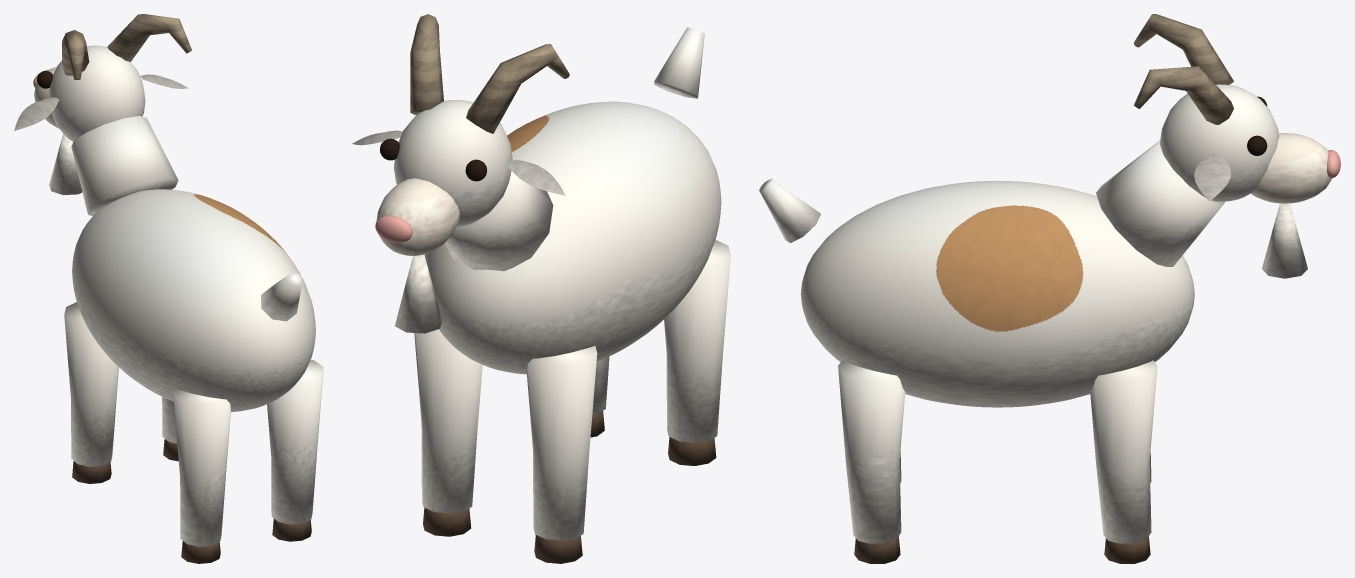
Rendered from goat.glb.
3 renders of one model, left to right at view 1: azimuth 30°, elevation 25°; view 2: azimuth 150°, elevation 25°; view 3: azimuth 270°, elevation 25°, orthographic. The views are drawn at different scales.
Visible parts, largest first — view 1: Body, Head; view 2: Body, Head; view 3: Body, Head.
Part boxes in pixels (x1,y1,x2,y2): Body: (64, 189, 323, 563); Head: (14, 14, 191, 215); Body: (414, 27, 730, 563); Head: (352, 14, 569, 333); Body: (759, 178, 1194, 563); Head: (1096, 14, 1340, 278).
Size of the model in its own units: 0.499 by 1.16 by 1.26.
1 material, 1 textured.
